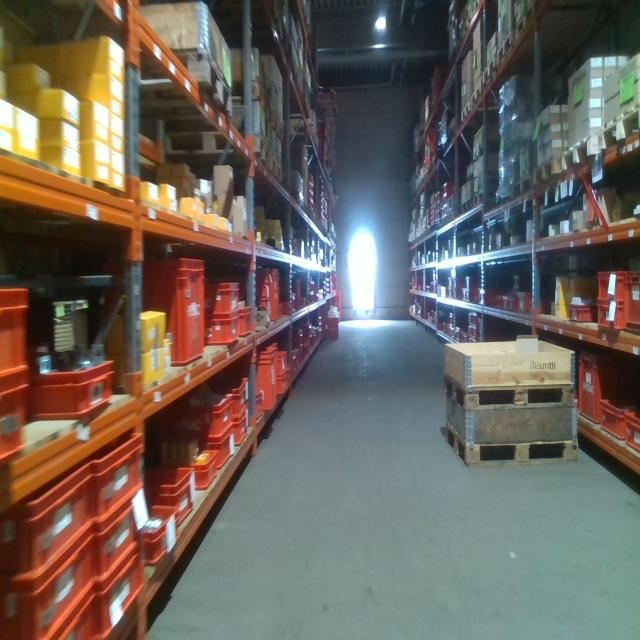pallet: (122, 49, 234, 122), (153, 122, 267, 177), (441, 422, 578, 467), (443, 369, 576, 407), (599, 104, 639, 151), (228, 73, 268, 116), (560, 132, 600, 174), (533, 156, 562, 190), (515, 3, 538, 42), (472, 142, 508, 162), (510, 175, 535, 201), (472, 186, 501, 207), (499, 28, 514, 66), (268, 110, 284, 142), (483, 51, 498, 84), (269, 159, 284, 188), (460, 98, 471, 125), (470, 84, 482, 108), (460, 198, 472, 221)
small_load_carrier: (8, 453, 89, 591), (105, 258, 203, 364), (8, 519, 92, 638), (27, 351, 116, 422), (87, 420, 141, 526), (96, 534, 142, 639), (92, 487, 139, 587), (579, 348, 635, 425), (147, 449, 197, 518), (225, 346, 275, 412), (170, 396, 232, 437), (141, 503, 180, 567), (46, 584, 93, 637), (8, 282, 30, 387), (7, 372, 27, 462), (600, 400, 640, 440), (594, 296, 630, 334), (203, 277, 238, 316), (204, 308, 239, 342), (625, 269, 640, 340), (250, 285, 278, 323), (193, 445, 217, 487), (597, 267, 628, 299), (517, 292, 548, 312), (239, 301, 254, 340), (232, 377, 247, 415), (232, 409, 246, 448), (214, 434, 230, 468), (569, 305, 594, 325), (626, 417, 640, 450), (253, 267, 278, 285), (327, 313, 340, 344), (275, 347, 289, 375), (275, 376, 287, 396)
